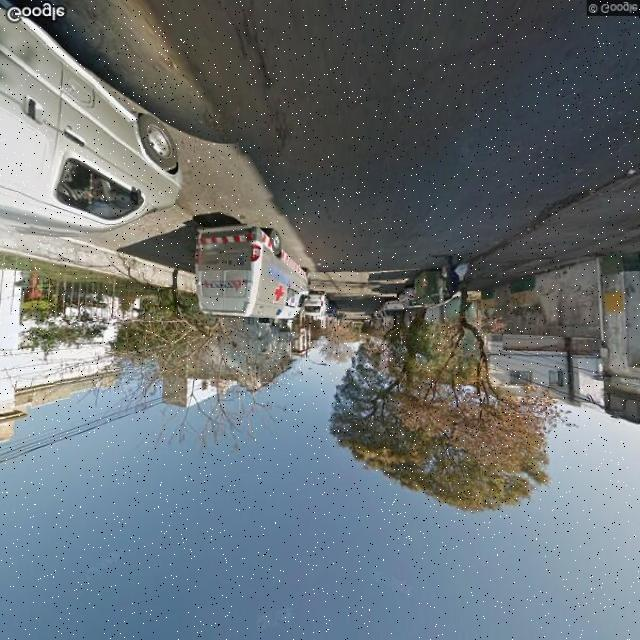garbage container: (410, 255, 466, 313)
